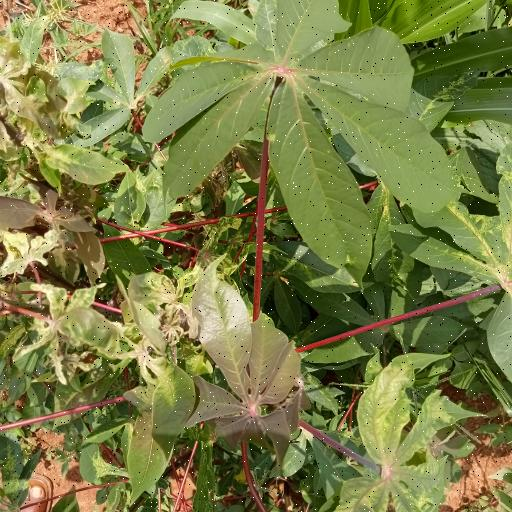Cassava_Healthy: (164, 0, 459, 263)
